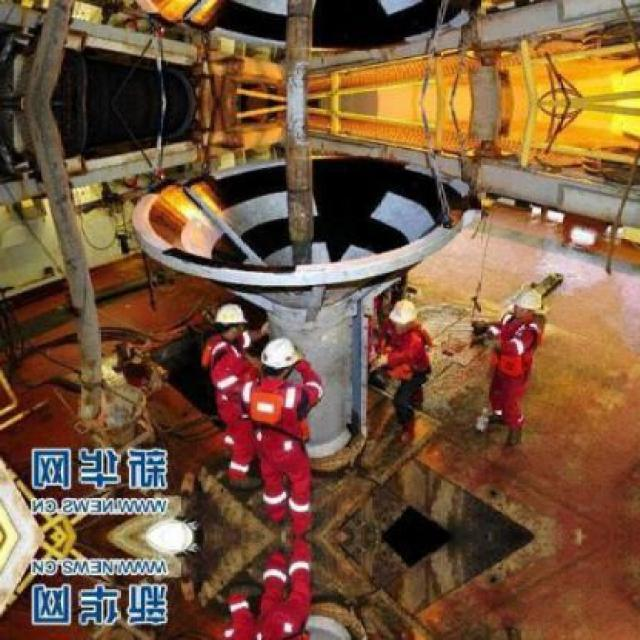reflective_jacket: (241, 374, 320, 458), (198, 334, 252, 422), (484, 314, 546, 385), (376, 324, 435, 391)
safety_helmet: (258, 333, 306, 371), (508, 285, 554, 320), (209, 299, 250, 331), (386, 296, 423, 330)
